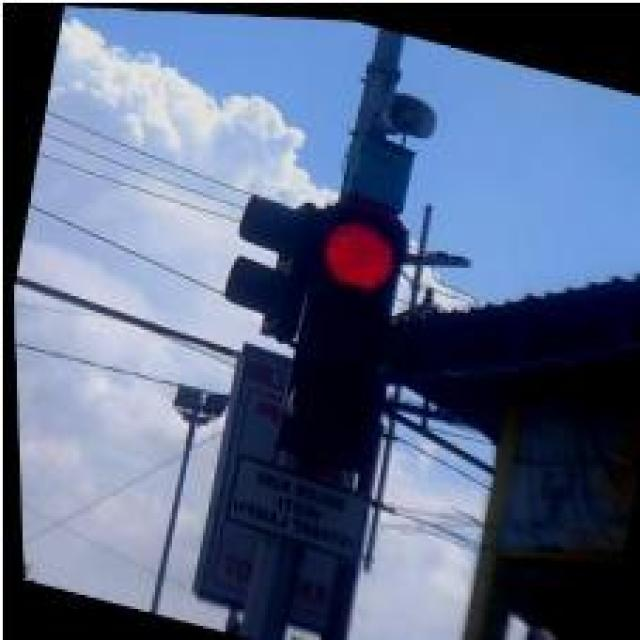traffic light: (319, 200, 404, 296)
